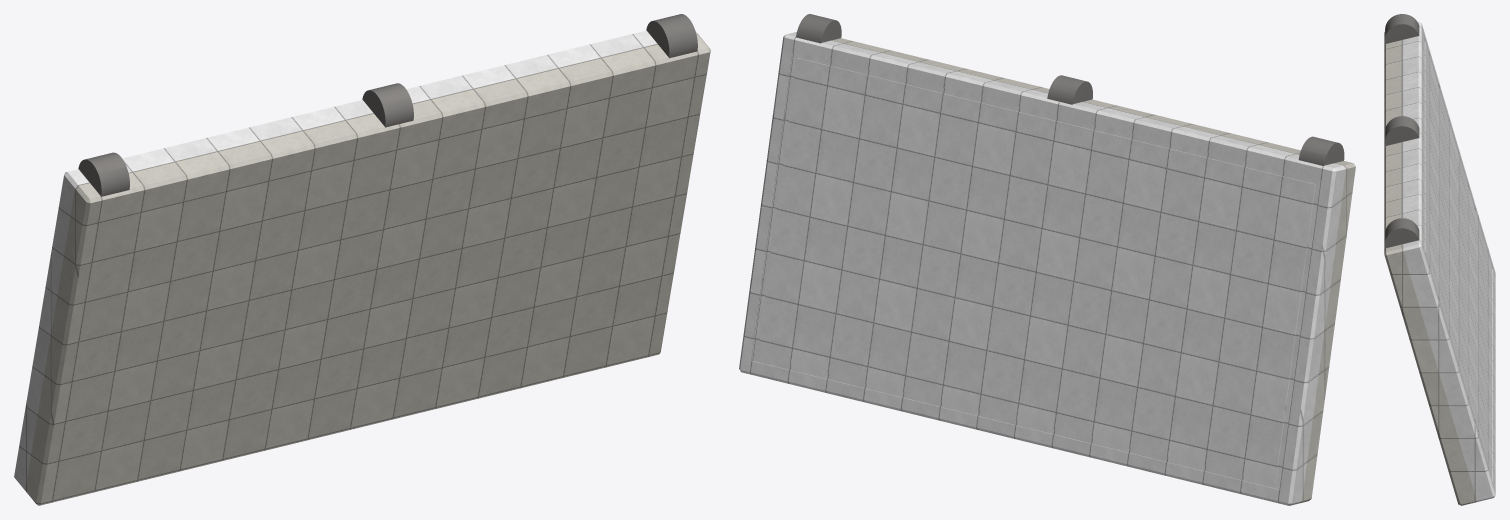
The model's file is ax_aero_26_csbf_body_flap_mk3_defl_pos.glb.
3 views of the same model, side by side, from view 1: azimuth 30°, elevation 25°; view 2: azimuth 150°, elevation 25°; view 3: azimuth 270°, elevation 25° (orthographic). The views are drawn at different scales.
Parts seen in each view (by area): view 1: flap_top, flap_underside, hinge_fittings; view 2: flap_underside, flap_top, hinge_fittings; view 3: flap_underside, flap_top, hinge_fittings.
Part boxes in pixels (x1,y1,x2,y2): flap_top: (25, 34, 710, 505); flap_underside: (14, 30, 699, 489); hinge_fittings: (78, 14, 697, 196); flap_underside: (739, 32, 1345, 505); flap_top: (831, 38, 1355, 503); hinge_fittings: (796, 14, 1344, 165); flap_underside: (1402, 21, 1495, 501); flap_top: (1384, 32, 1477, 505); hinge_fittings: (1385, 14, 1419, 248).
Bounding box in the file's own units: 2.2 × 1.25 × 0.46.
Materials: 3 (3 with a texture image).
